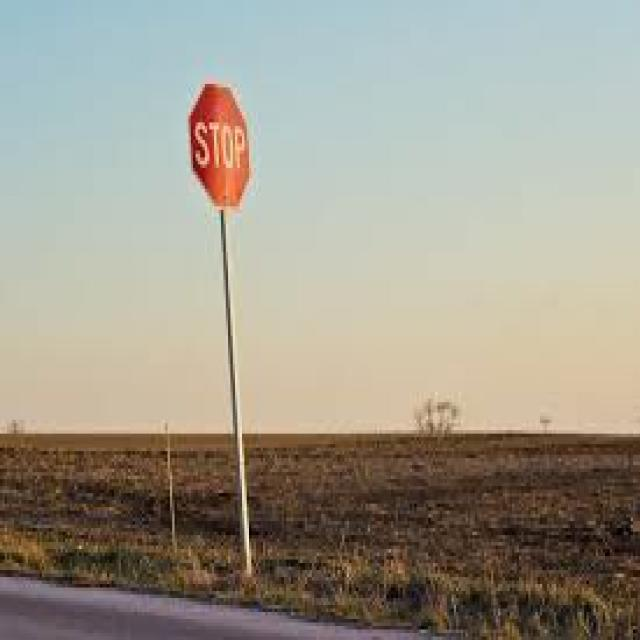stop-sign: (186, 89, 268, 217)
